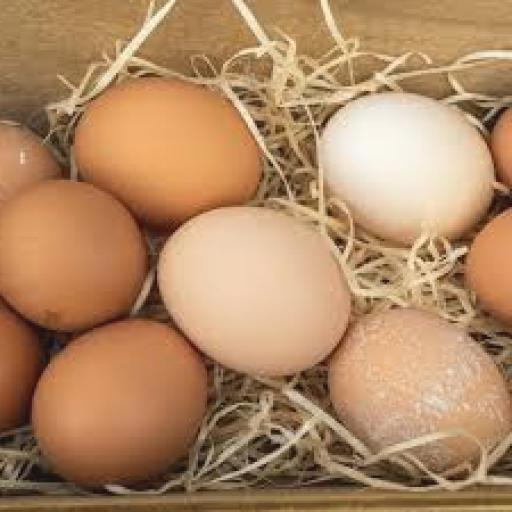telur: (159, 207, 348, 373), (330, 307, 512, 471), (34, 319, 207, 485), (75, 77, 262, 225), (321, 91, 494, 241), (2, 182, 148, 330)
